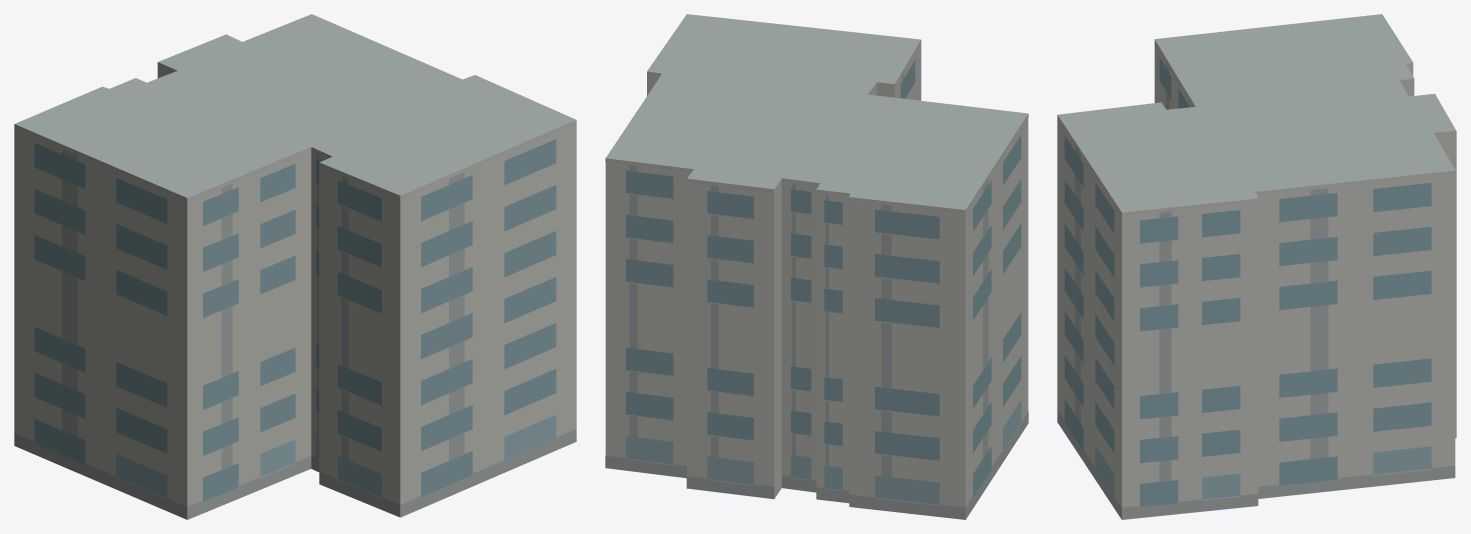
Rendered from survey-upis-32645951.glb.
The picture shows the model from 3 angles, left to right: view 1: azimuth 30°, elevation 25°; view 2: azimuth 150°, elevation 25°; view 3: azimuth 270°, elevation 25°; orthographic projection. The views are drawn at different scales.
Parts seen in each view (by area): view 1: survey-upis-32645951.tmp; view 2: survey-upis-32645951.tmp; view 3: survey-upis-32645951.tmp.
Boxes of the visible parts, x1,y1,x2,y2 form: survey-upis-32645951.tmp: (14, 14, 576, 519); survey-upis-32645951.tmp: (605, 14, 1028, 519); survey-upis-32645951.tmp: (1057, 14, 1456, 519).
Bounding box in the file's own units: 26.32 × 19 × 22.36.
